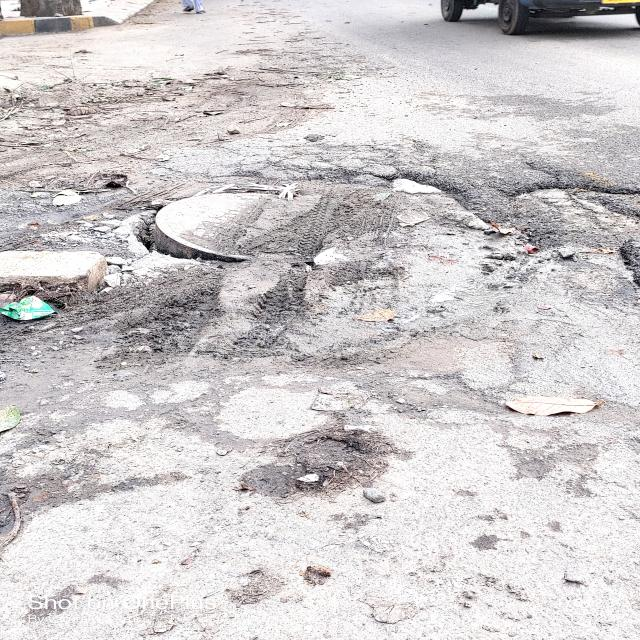potholes: (2, 160, 637, 367)
